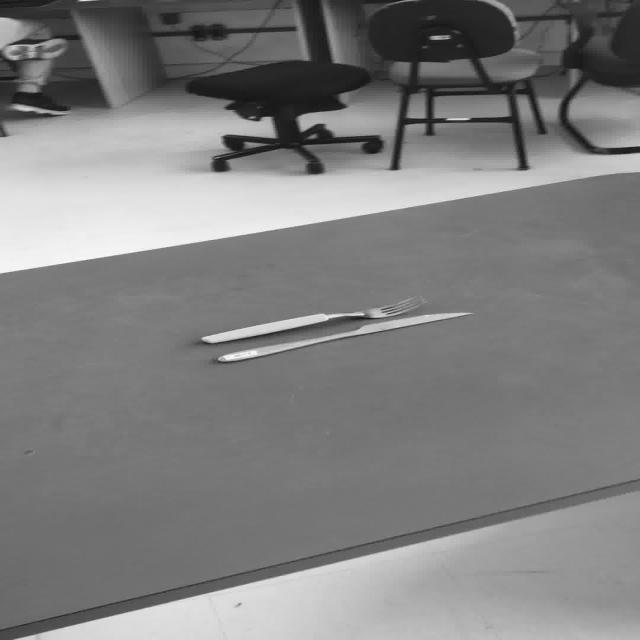fork: (199, 295, 426, 344)
knife fork: (215, 310, 472, 363)
